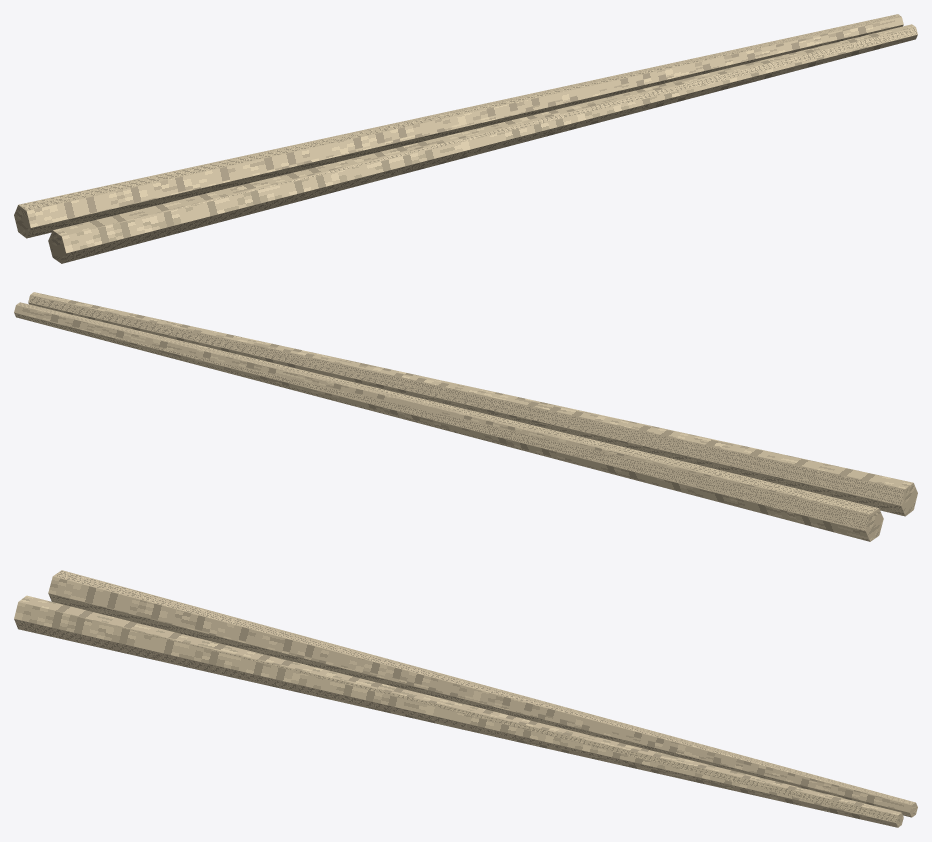
File: chopsticks.glb
3 renders of one model, top to bottom at view 1: azimuth 30°, elevation 25°; view 2: azimuth 150°, elevation 25°; view 3: azimuth 330°, elevation 25°, orthographic.
Visible parts, largest first — view 1: block_stick0.008, block_stick-0.008; view 2: block_stick-0.008, block_stick0.008; view 3: block_stick0.008, block_stick-0.008.
Part boxes in pixels (left/top/right/bottom): block_stick0.008: left=48, top=24, right=917, bottom=263; block_stick-0.008: left=14, top=14, right=903, bottom=238; block_stick-0.008: left=14, top=302, right=883, bottom=541; block_stick0.008: left=28, top=292, right=917, bottom=516; block_stick0.008: left=14, top=595, right=903, bottom=827; block_stick-0.008: left=48, top=570, right=917, bottom=817.
Bounding box in the file's own units: 0.2301 × 0.00693 × 0.024.
Materials: 1 (1 with a texture image).
